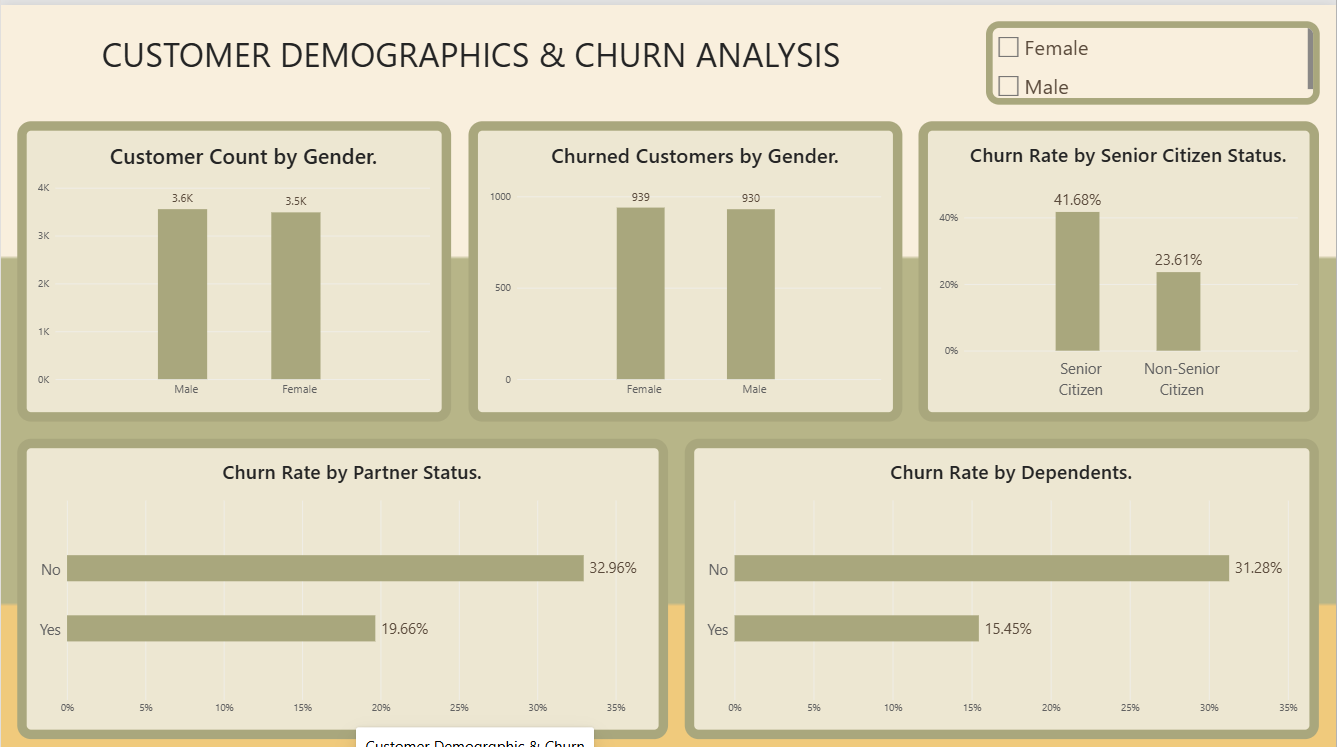

What the dashboard file says about the page in this screenshot:
{"tool":"powerbi","page":{"name":"Customer Demogrqphic & Churn","canvas":[1920,1080],"ordinal":1},"visuals":[{"type":"textbox","box":[0,0,1416,144],"z":0},{"type":"clusteredColumnChart","title":"Customer Count by Gender.","fields":{"Category":["CustomerChurn.gender"],"Y":["Measure.Total Customers"]},"box":[24,168,624,432],"z":1},{"type":"clusteredColumnChart","title":"Churned Customers by Gender.","fields":{"Category":["CustomerChurn.gender"],"Y":["Measure.Churned Customers"]},"box":[672,168,624,432],"z":2},{"type":"clusteredColumnChart","title":"Churn Rate by Senior Citizen Status.","fields":{"Category":["CustomerChurn.Senior Citizen Status"],"Y":["Measure.Churn Rate"]},"box":[1320,168,576,432],"z":3},{"type":"clusteredBarChart","title":"Churn Rate by Partner Status.","fields":{"Category":["CustomerChurn.Partner"],"Y":["Measure.Churn Rate"]},"box":[24,624,936,432],"z":4},{"type":"clusteredBarChart","title":"Churn Rate by Dependents.","fields":{"Category":["CustomerChurn.Dependents"],"Y":["Measure.Churn Rate"]},"box":[984,624,912,432],"z":5},{"type":"slicer","fields":{"Values":["CustomerChurn.gender"]},"box":[1416,24,480,120],"z":6}]}

Visuals, with their boxes in screenshot pixels (x1, y1, x2, y2), scaled from the page's 1920x1080 canvas onto the 1337x747 screenshot:
textbox: 0/0/986/100
"Customer Count by Gender." clusteredColumnChart: 17/116/451/415
"Churned Customers by Gender." clusteredColumnChart: 468/116/902/415
"Churn Rate by Senior Citizen Status." clusteredColumnChart: 919/116/1320/415
"Churn Rate by Partner Status." clusteredBarChart: 17/432/668/730
"Churn Rate by Dependents." clusteredBarChart: 685/432/1320/730
slicer - CustomerChurn.gender: 986/17/1320/100
